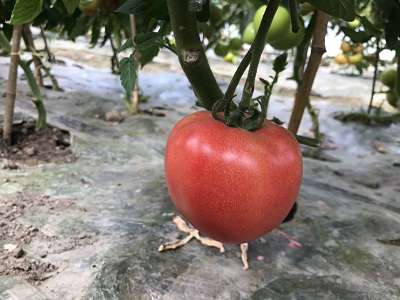mature-tomato: (165, 110, 303, 243)
